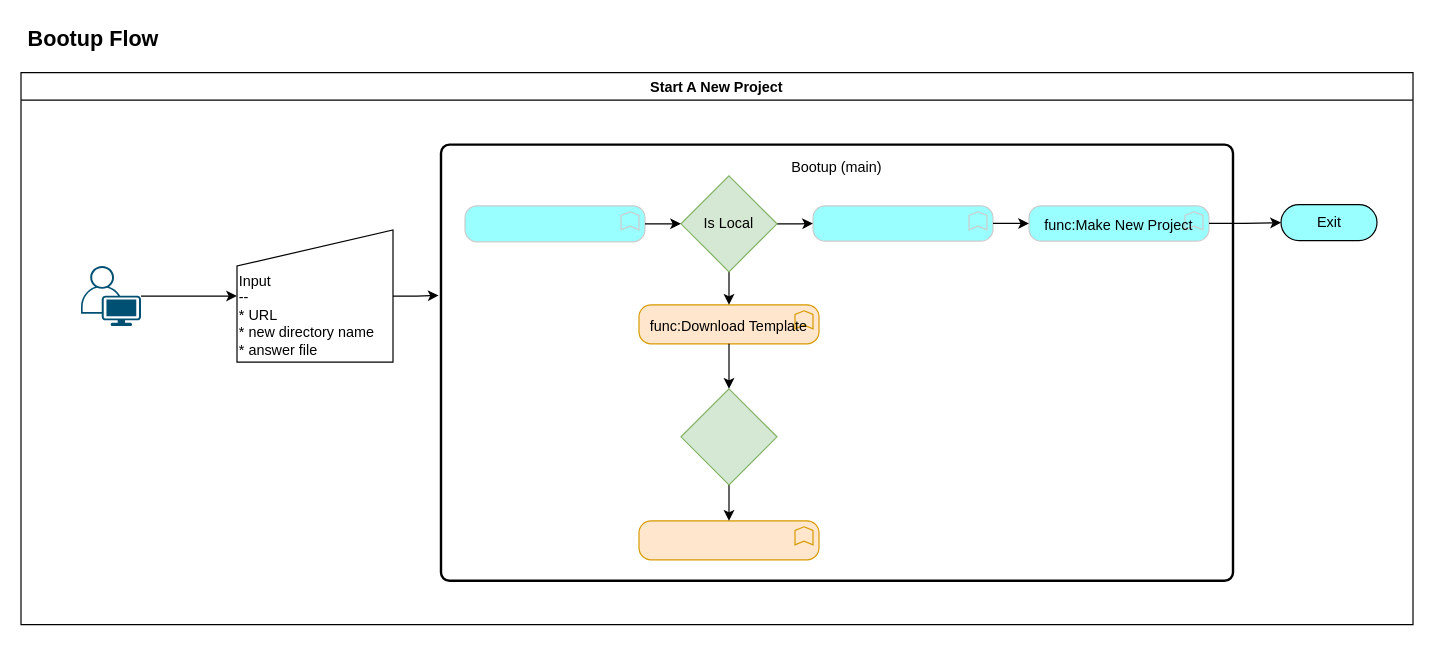
The diagram is 1434 pixels wide and 646 high, and some of its shapes have lost their labels. Here are the shapes that lost their labels. From the top down, the centre of each, then its label:
At (x=554, y=223): "func:Validate Input".
At (x=902, y=223): "func:Process Template".
At (x=728, y=436): "Is Archive".
At (x=728, y=540): "func:Extract Template".
